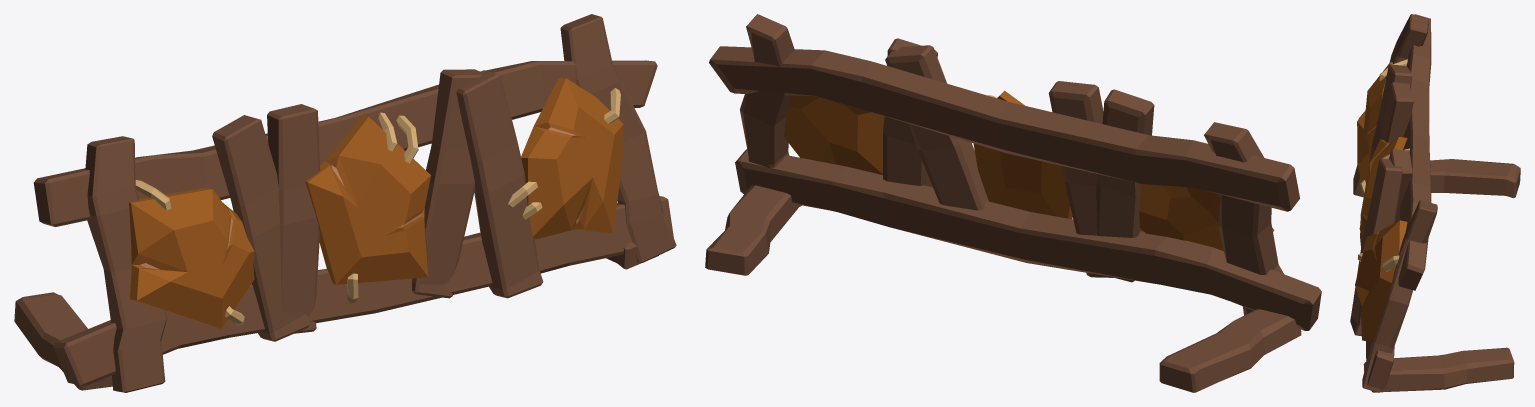
The model's file is WoodenBarricade.fbx.
3 views of the same model, side by side, from view 1: azimuth 30°, elevation 25°; view 2: azimuth 150°, elevation 25°; view 3: azimuth 270°, elevation 25° (orthographic). The views are drawn at different scales.
Parts seen in each view (by area): view 1: WoodenBarricade; view 2: WoodenBarricade; view 3: WoodenBarricade.
Part boxes in pixels (box(x1,y1,x2,y2)): WoodenBarricade: box(14, 14, 676, 392); WoodenBarricade: box(705, 14, 1321, 392); WoodenBarricade: box(1350, 14, 1520, 392).
Size of the model in its own units: 445 by 157 by 137.
1 material, 1 textured.
